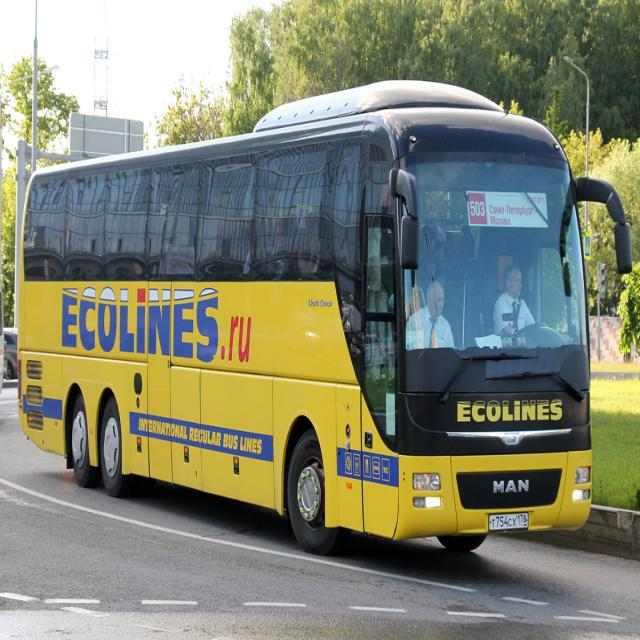number-of-bus: (468, 195, 488, 223)
